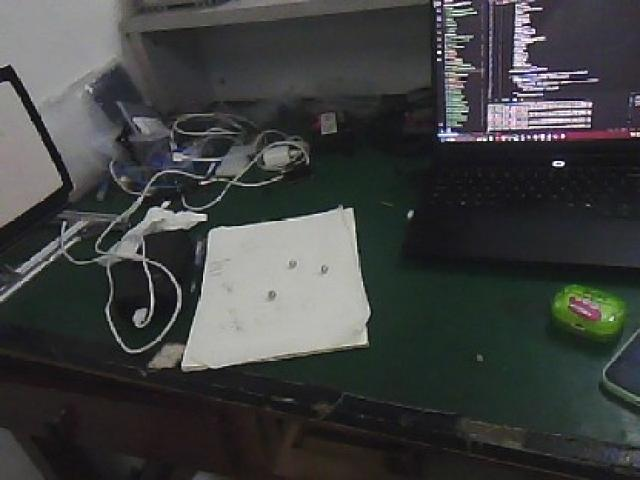steel-ball: (252, 276, 278, 304), (282, 249, 298, 280), (314, 257, 331, 277)
